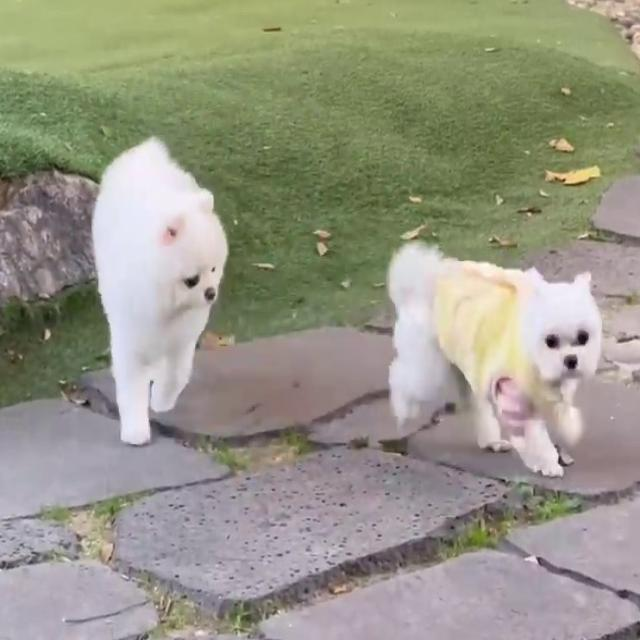Dog: (387, 240, 603, 478), (92, 137, 228, 446)
